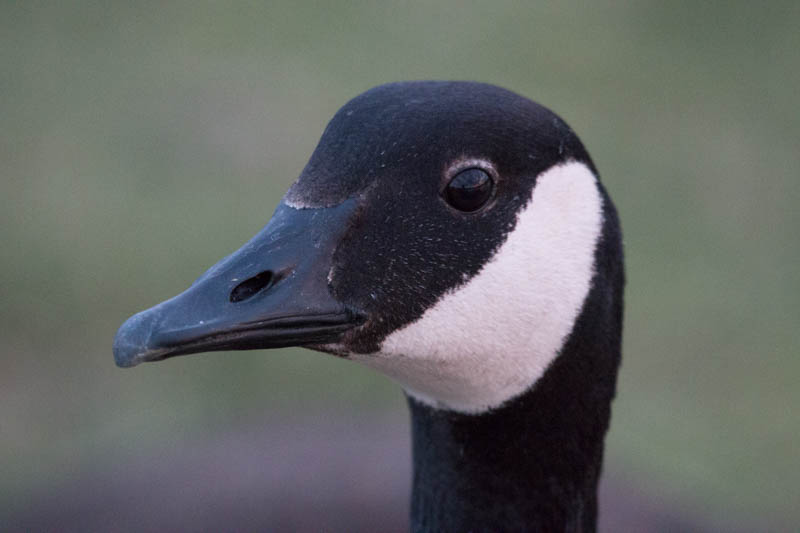goose-head: (112, 80, 625, 416)
